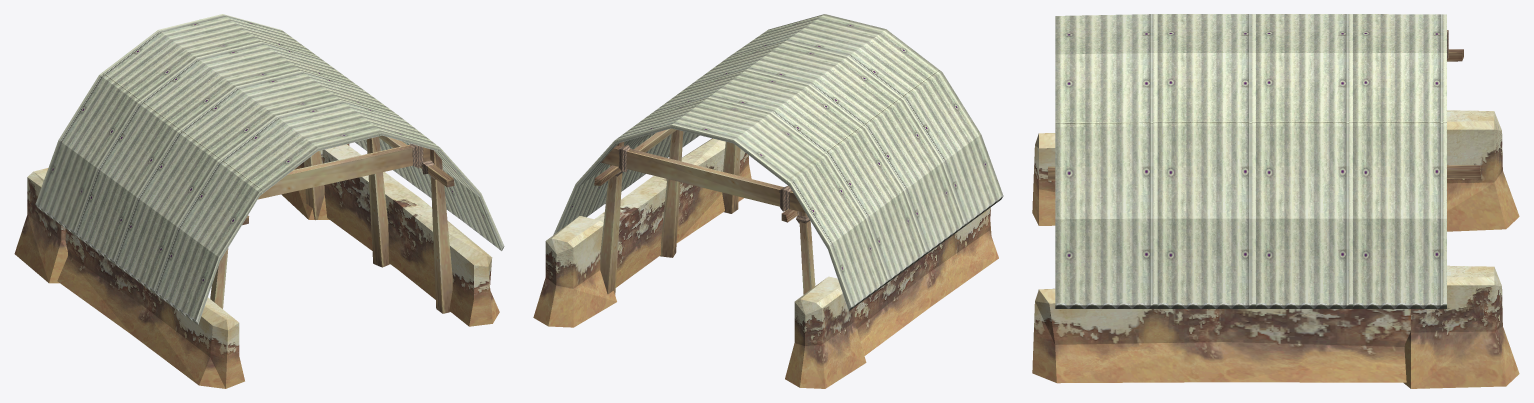
File: C2SMHANGER1H.obj
3 views of the same model, side by side, from view 1: azimuth 30°, elevation 25°; view 2: azimuth 150°, elevation 25°; view 3: azimuth 270°, elevation 25° (orthographic). The views are drawn at different scales.
Parts seen in each view (by area): view 1: Node 0; view 2: Node 0; view 3: Node 0.
Boxes of the visible parts, left/top/right/bottom form: Node 0: left=14, top=14, right=504, bottom=388; Node 0: left=533, top=14, right=1003, bottom=388; Node 0: left=1032, top=14, right=1519, bottom=388.
Size of the model in its own units: 22.54 by 14.67 by 24.76.
